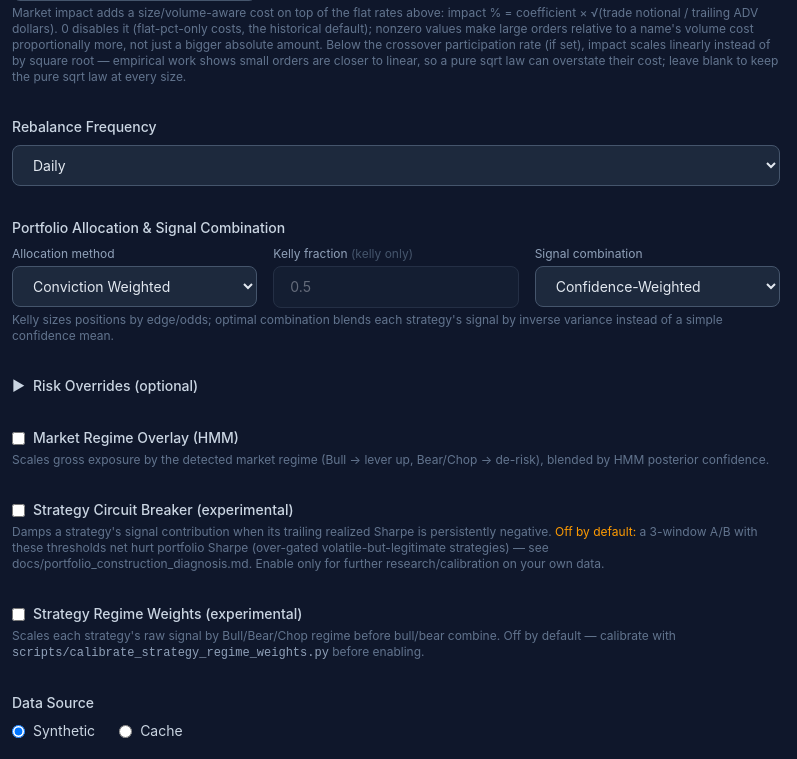
Test: NewBacktest › expands the risk overrides section with all 11 RiskConfig fields
(page scrolled)
Click the button "▶ Risk Overrides (optional)" at (105, 386), box [12,376,198,396]
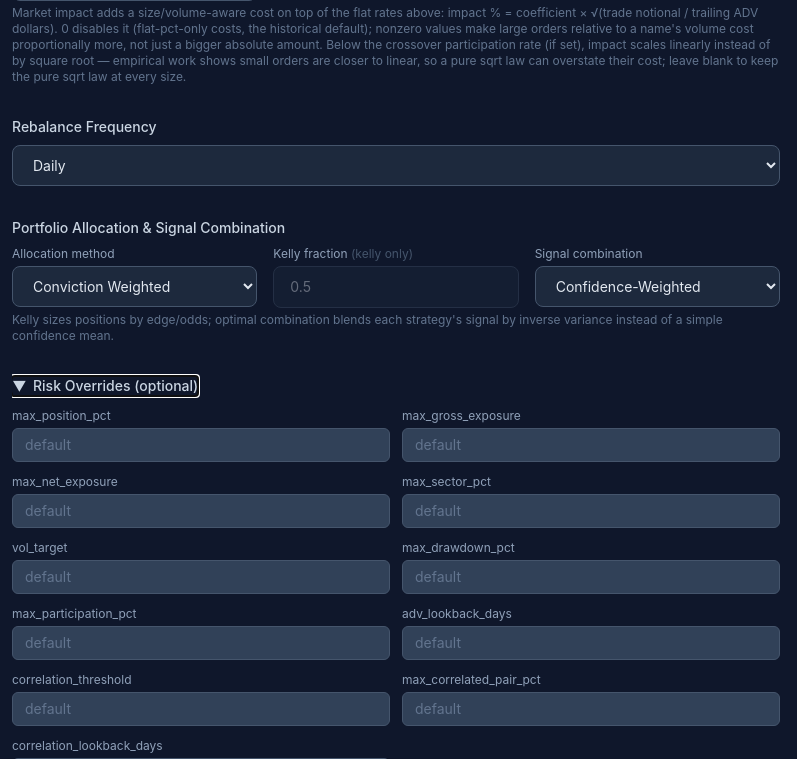
Expected: the text "max_position_pct" is shown, [12,408,111,423]
Expected: the text "max_gross_exposure" is shown, [402,408,521,423]
Expected: the text "max_net_exposure" is shown, [12,474,118,489]
